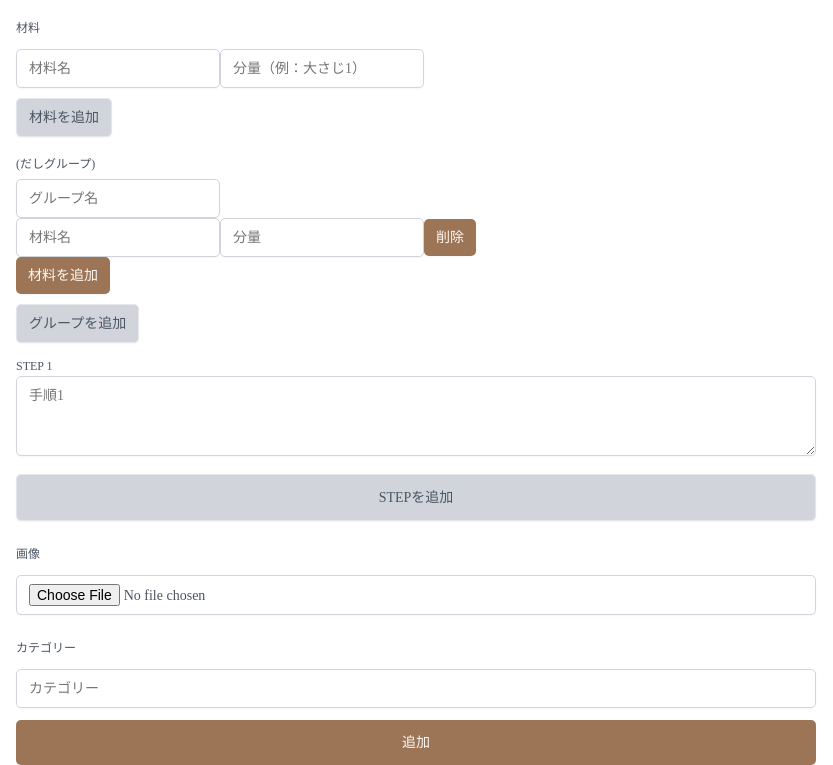
CreateRecipeForm › バリデーション › 空のフォームを送信するとエラーが表示される
(page scrolled)
Click the button "追加": (416, 742) [16,720,816,764]
(page scrolled)
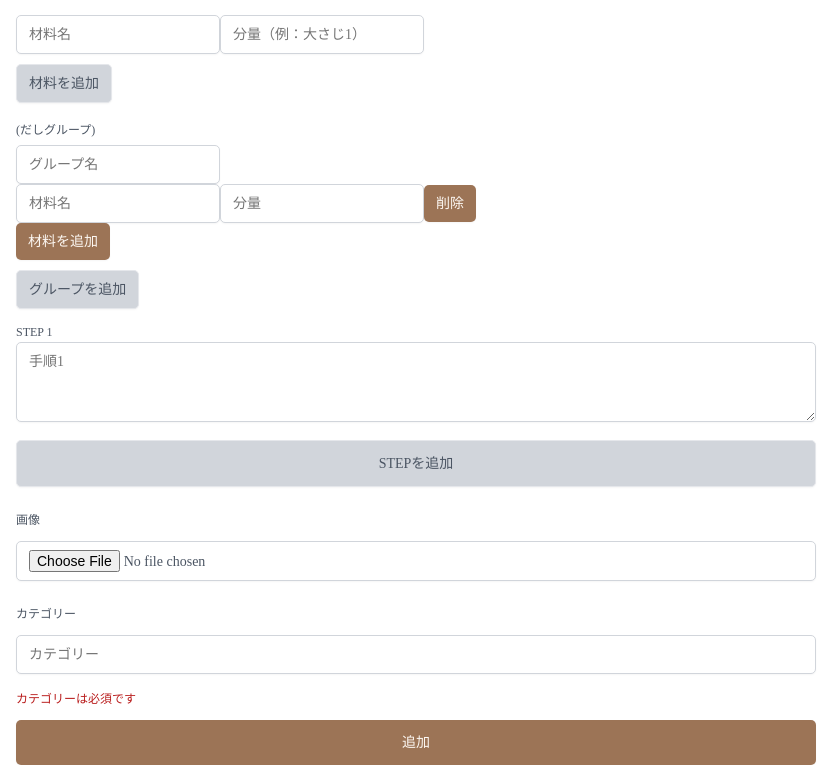
Now the text "カテゴリーは必須です" is shown, box [16,692,136,706]
